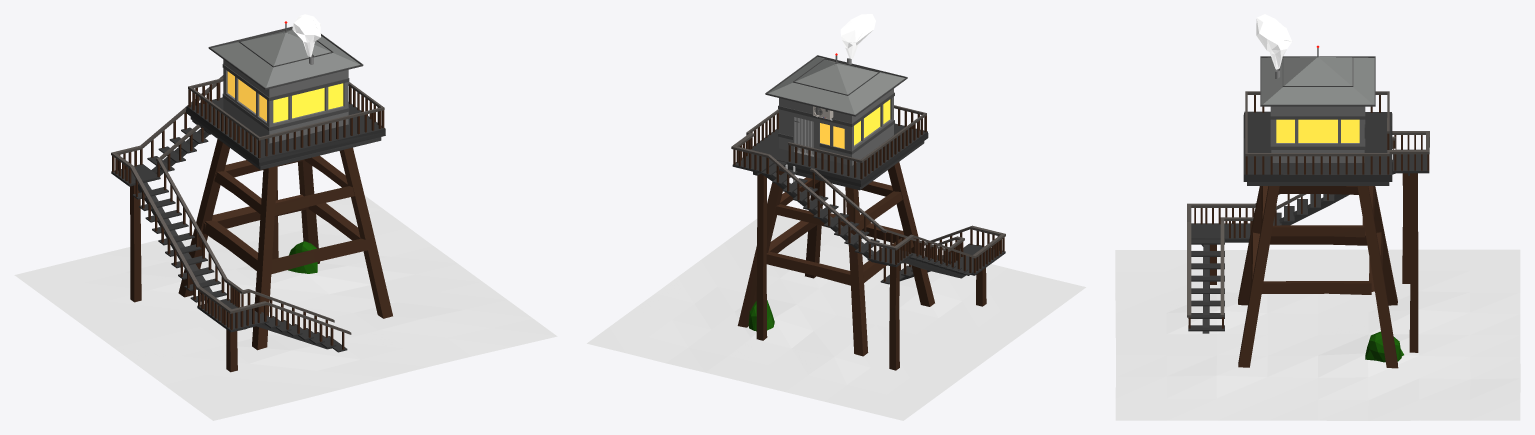
Rendered from watchtower.glb.
3 renders of one model, left to right at view 1: azimuth 30°, elevation 25°; view 2: azimuth 150°, elevation 25°; view 3: azimuth 270°, elevation 25°, orthographic. The views are drawn at different scales.
Visible parts, largest first — view 1: Plane_0, Cube.005_7, Cone_10, Cube.006_8, Cube.013_29, Cube.003_4, Cube.002_3, Cube.007_9, Cube.018_35, Cube.001_2, Cube.040_57, Cube.025_42 (+20 smaller); view 2: Plane_0, Cone_10, Cube.005_7, Cube.006_8, Cube.013_29, Cube.001_2, Cube.032_49, Cube.002_3, Plane.010_30, Cube_1, Cube.039_56, Cube.031_48 (+14 smaller); view 3: Plane_0, Cube.005_7, Cone_10, Cube.006_8, Cube.013_29, Cube.003_4, Cube_1, Cube.007_9, Cube.045_69, Cube.032_49, Cube.037_54, Icosphere.001_74 (+16 smaller).
Part boxes in pixels (left/top/right/bottom): Plane_0: left=14, top=195, right=557, bottom=420; Cube.005_7: left=138, top=97, right=385, bottom=349; Cone_10: left=211, top=29, right=360, bottom=87; Cube.006_8: left=223, top=59, right=348, bottom=143; Cube.013_29: left=111, top=75, right=384, bottom=334; Cube.003_4: left=339, top=147, right=392, bottom=318; Cube.002_3: left=252, top=166, right=277, bottom=350; Cube.007_9: left=227, top=71, right=343, bottom=122; Cube.018_35: left=132, top=187, right=226, bottom=302; Cube.001_2: left=178, top=139, right=229, bottom=297; Cube.040_57: left=271, top=238, right=372, bottom=274; Cube.025_42: left=156, top=124, right=334, bottom=322; Plane_0: left=587, top=215, right=1085, bottom=420; Cone_10: left=768, top=57, right=904, bottom=114; Cube.005_7: left=751, top=123, right=965, bottom=281; Cube.006_8: left=779, top=89, right=893, bottom=165; Cube.013_29: left=731, top=105, right=1005, bottom=258; Cube.001_2: left=845, top=187, right=868, bottom=356; Cube.032_49: left=756, top=174, right=767, bottom=340; Cube.002_3: left=888, top=162, right=934, bottom=306; Plane.010_30: left=762, top=160, right=879, bottom=253; Cube_1: left=737, top=170, right=784, bottom=327; Cube.039_56: left=766, top=251, right=863, bottom=285; Cube.031_48: left=889, top=265, right=899, bottom=370; Plane_0: left=1115, top=249, right=1520, bottom=420; Cube.005_7: left=1201, top=111, right=1425, bottom=333; Cone_10: left=1261, top=56, right=1374, bottom=104; Cube.006_8: left=1271, top=106, right=1364, bottom=162; Cube.013_29: left=1187, top=91, right=1429, bottom=317; Cube.003_4: left=1238, top=186, right=1279, bottom=367; Cube_1: left=1357, top=186, right=1398, bottom=368; Cube.007_9: left=1276, top=119, right=1359, bottom=142; Cube.045_69: left=1188, top=239, right=1224, bottom=331; Cube.032_49: left=1409, top=173, right=1418, bottom=352; Cube.037_54: left=1261, top=281, right=1371, bottom=294; Icosphere.001_74: left=1256, top=14, right=1292, bottom=69.
Bounding box in the file's own units: 200 × 177 × 200.
